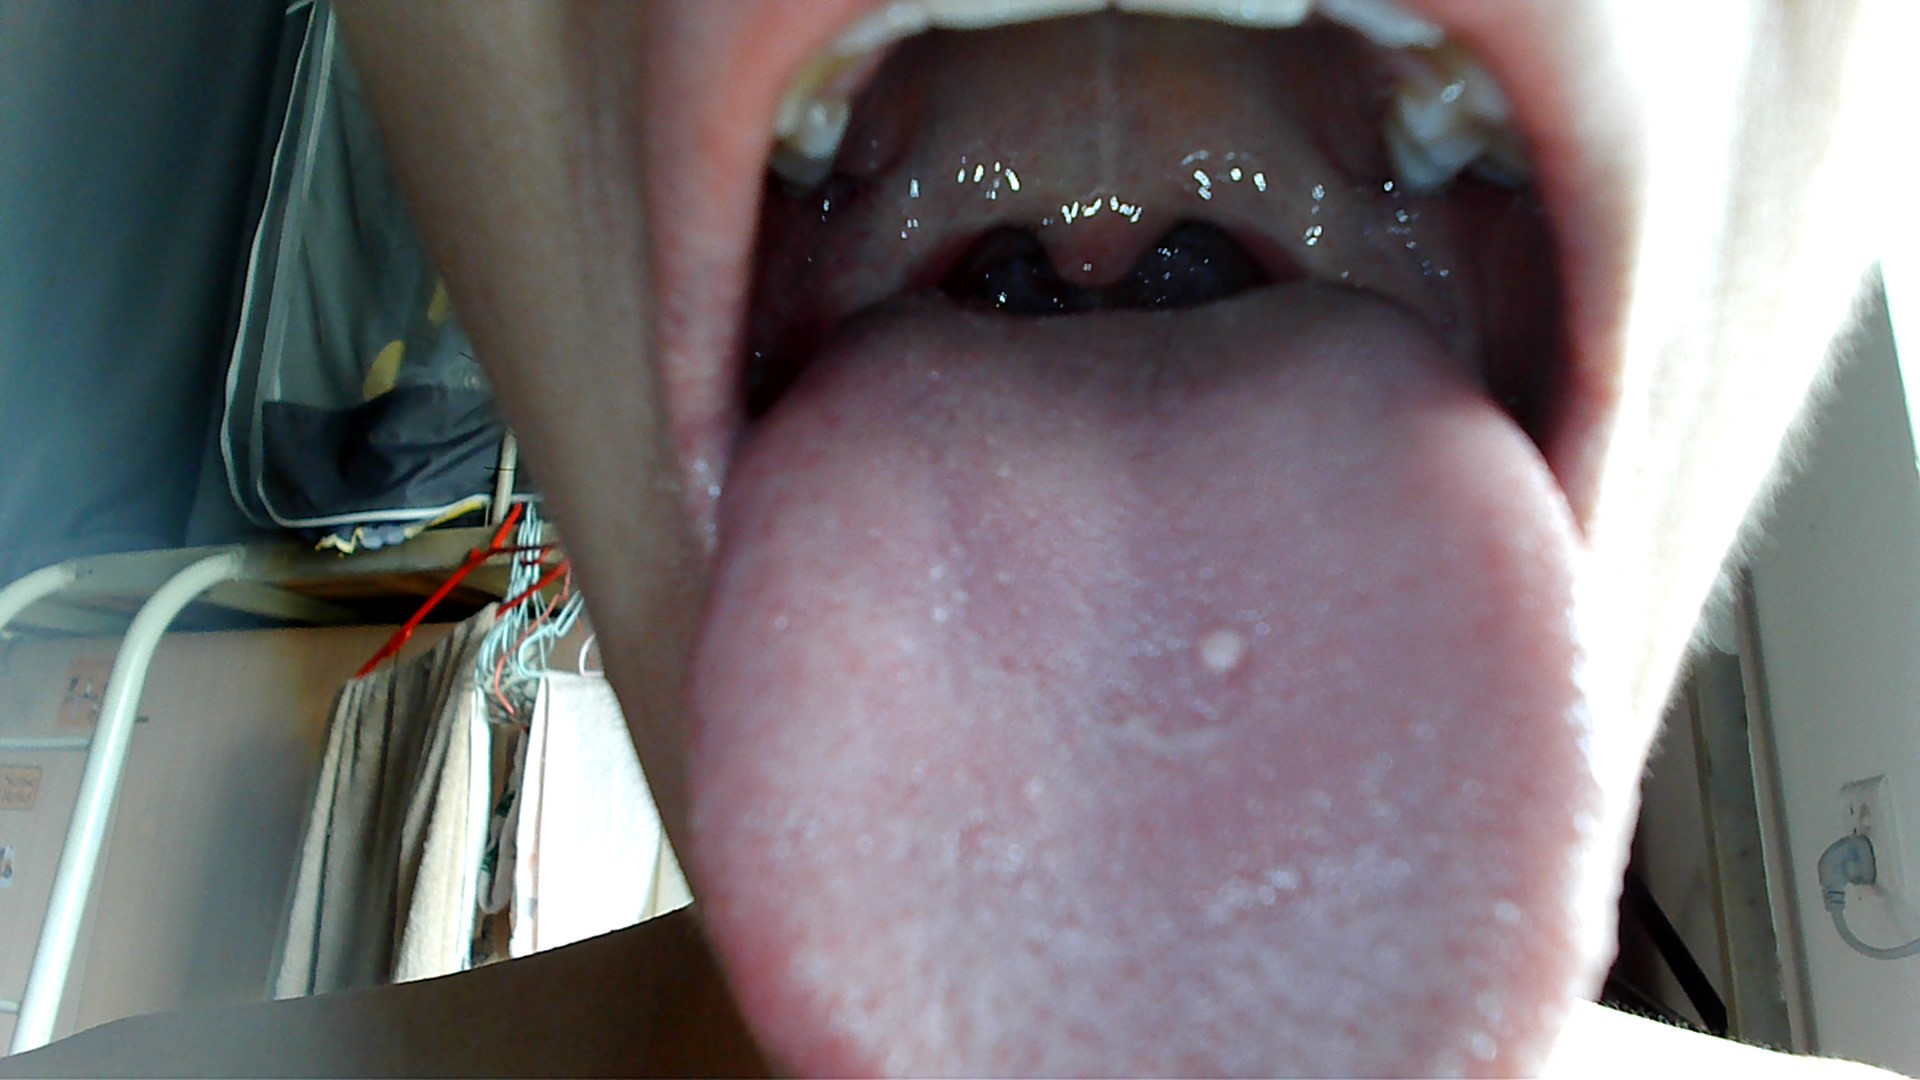throat: (1234, 152, 1386, 280), (825, 193, 971, 295)
